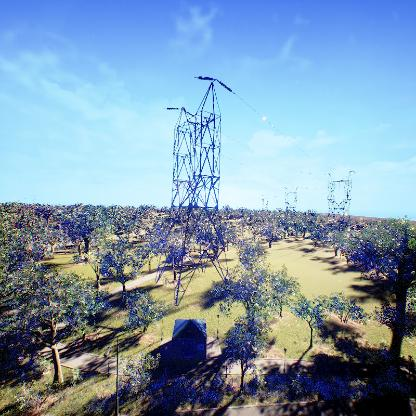tower: (160, 74, 237, 307), (322, 168, 358, 239)
